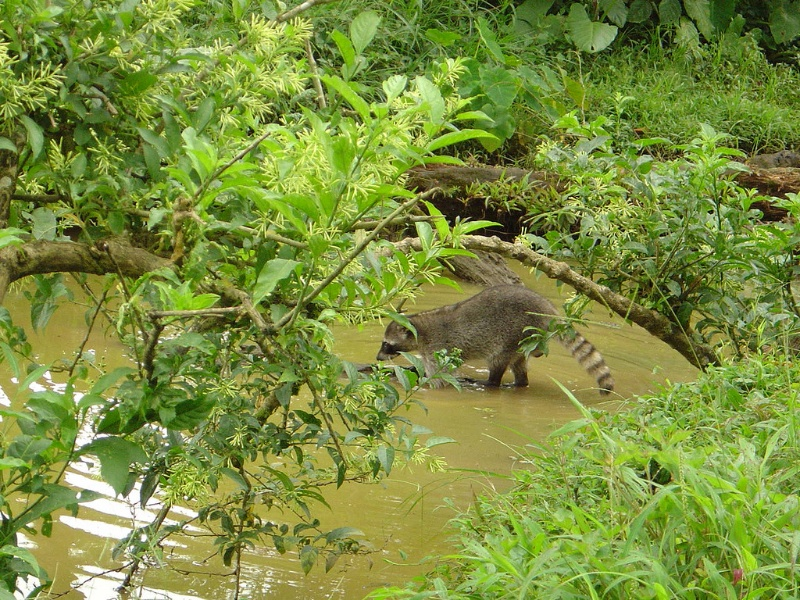raccoon: (371, 284, 617, 399)
